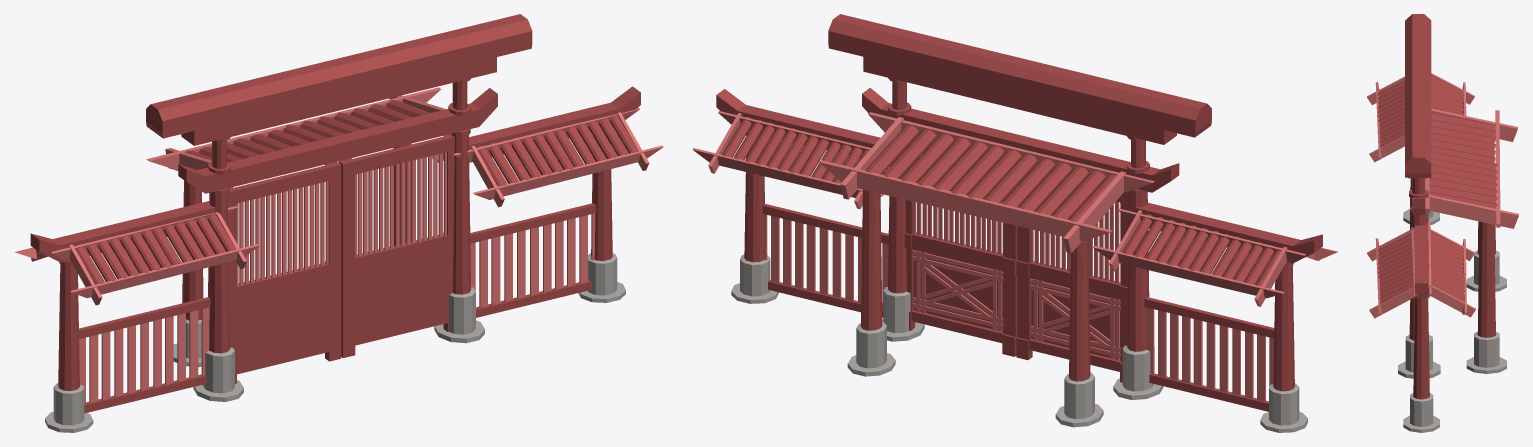
Rendered from ER_Asset_Gate_wFence.fbx.
3 renders of one model, left to right at view 1: azimuth 30°, elevation 25°; view 2: azimuth 150°, elevation 25°; view 3: azimuth 270°, elevation 25°, orthographic. The views are drawn at different scales.
Visible parts, largest first — view 1: polySurface3960, pCube710, pCube711; view 2: polySurface3960, pCube710, pCube711; view 3: polySurface3960.
Boxes of the visible parts, box(x1,y1,x2,y2) form: polySurface3960: box(14, 14, 663, 432); pCube710: box(338, 134, 454, 358); pCube711: box(228, 161, 341, 383); polySurface3960: box(692, 14, 1338, 432); pCube710: box(904, 142, 1017, 356); pCube711: box(1016, 170, 1129, 382); polySurface3960: box(1367, 14, 1518, 432).
Bounding box in the file's own units: 10.16 × 4.85 × 2.79.
